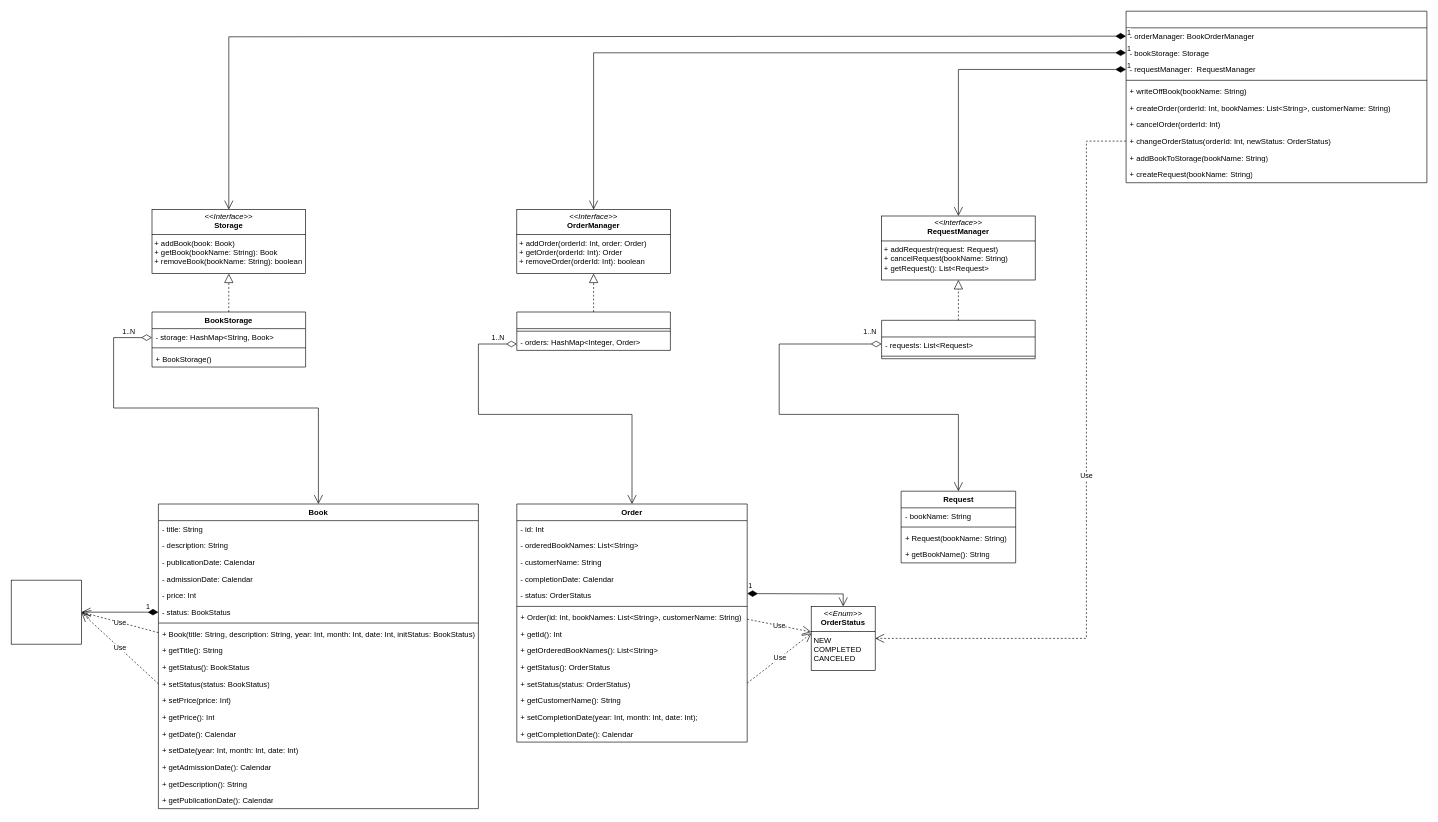
Some shapes in this 1438 by 822 pixel diagram are drawn without their labels. The box of each missing label's shape, as (x1, y1, x2, y2) in pixels:
<<Enum>> BookStatus FREE RESERVED SOLD_OUT: (11, 580, 82, 644)
BookOrderManager: (516, 311, 670, 350)
BookRequestManager: (881, 320, 1035, 359)
BookStore: (1125, 11, 1427, 183)
